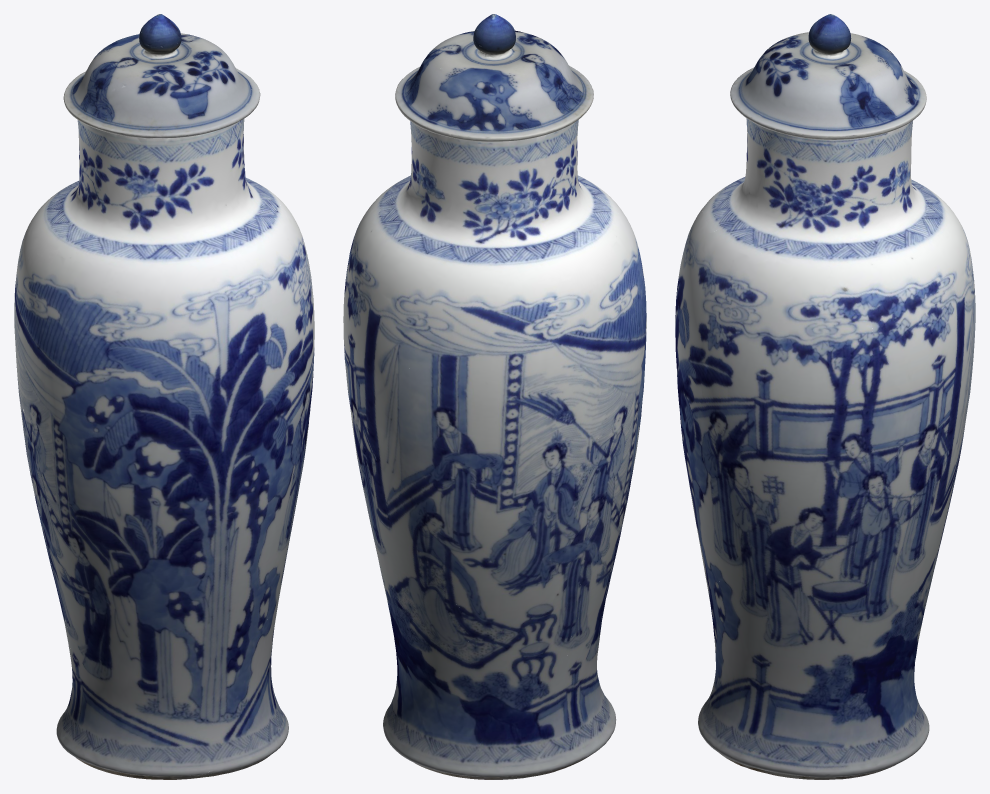
The model's file is covered-vase-192.glb.
3 renders of one model, left to right at view 1: azimuth 30°, elevation 25°; view 2: azimuth 150°, elevation 25°; view 3: azimuth 270°, elevation 25°, orthographic.
Visible parts, largest first — view 1: vase; view 2: vase; view 3: vase.
Boxes of the visible parts, x1,y1,x2,y2 form: vase: (14,14,314,779); vase: (343,14,646,779); vase: (675,14,975,779).
Bounding box in the file's own units: 0.1719 × 0.4574 × 0.1722.
2 materials, 2 textured.
